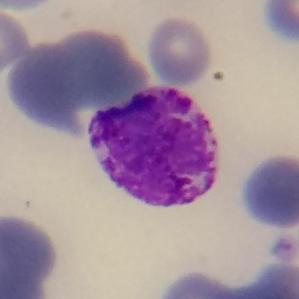Basophil: (82, 78, 230, 216)
Platelets: (268, 233, 299, 264)
RBC: (50, 28, 146, 98), (10, 45, 94, 124), (144, 14, 216, 88), (235, 150, 298, 233), (0, 214, 58, 286), (157, 264, 242, 299), (248, 259, 299, 299), (259, 0, 299, 46), (0, 10, 28, 70), (268, 232, 299, 266), (0, 0, 64, 13)
